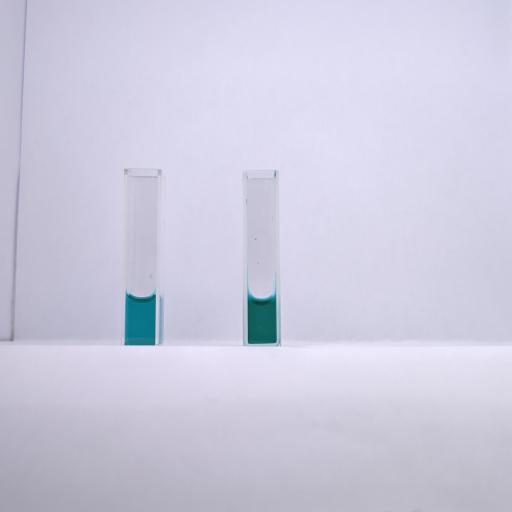cuvette: (241, 169, 283, 349), (122, 168, 163, 348)
liquid: (126, 295, 156, 344), (248, 296, 277, 344)
